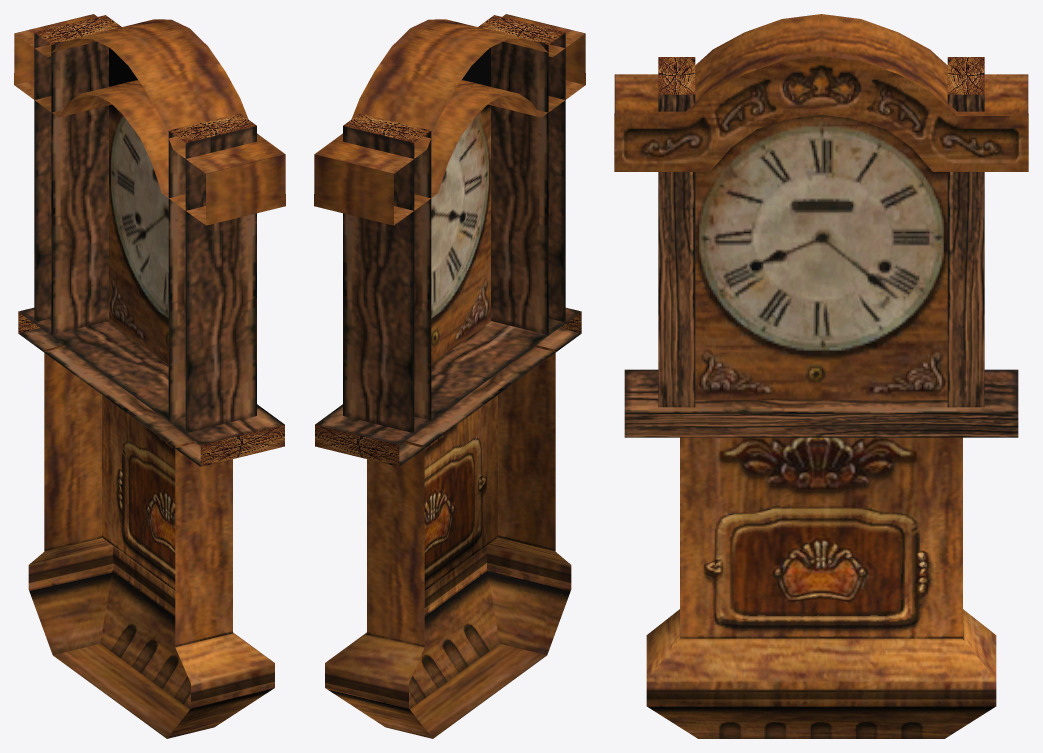
Rendered from INST_LT_WALLCLOCK.fbx.
3 views of the same model, side by side, from view 1: azimuth 30°, elevation 25°; view 2: azimuth 150°, elevation 25°; view 3: azimuth 270°, elevation 25° (orthographic). The views are drawn at different scales.
Visible parts, largest first — view 1: INST_LT_WALLCLOCK; view 2: INST_LT_WALLCLOCK; view 3: INST_LT_WALLCLOCK.
Boxes of the visible parts, x1,y1,x2,y2 form: INST_LT_WALLCLOCK: (14,14,285,738); INST_LT_WALLCLOCK: (314,14,585,738); INST_LT_WALLCLOCK: (614,14,1028,738).
Bounding box in the file's own units: 1009 × 7395 × 3964.
Materials: 5 (5 with a texture image).
